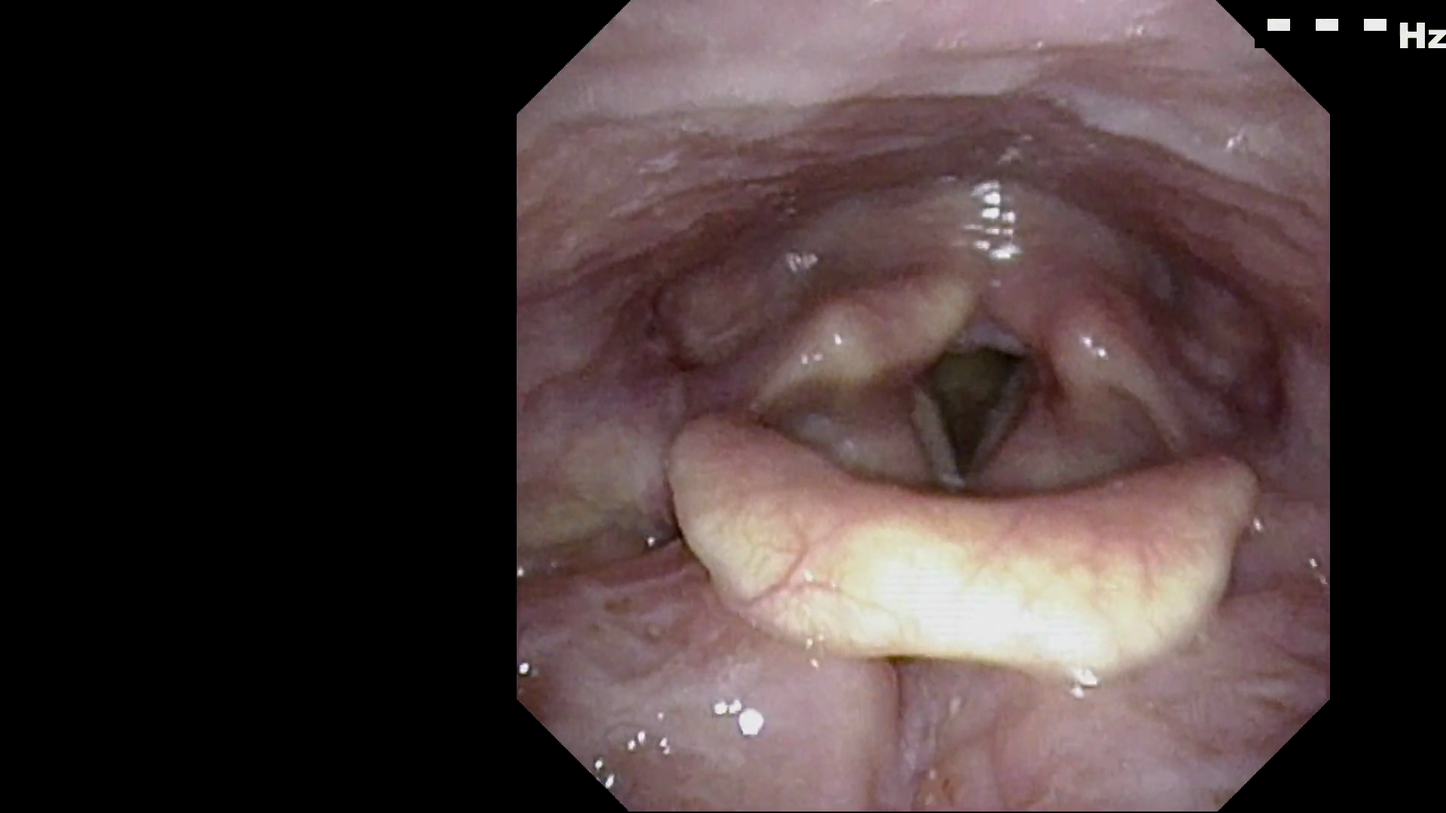epiglottis: (659, 409, 1276, 694)
trachea: (889, 317, 1055, 489)
